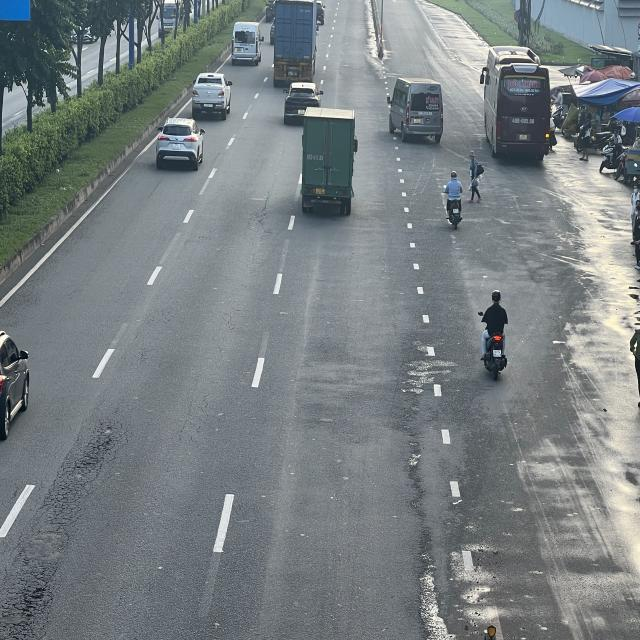car: (0, 328, 30, 438), (156, 117, 204, 168), (192, 70, 233, 118), (283, 83, 321, 123)
coach: (481, 45, 553, 160)
container: (272, 0, 320, 84)
truck: (304, 109, 361, 217)
van: (388, 75, 444, 141), (232, 22, 264, 67)
